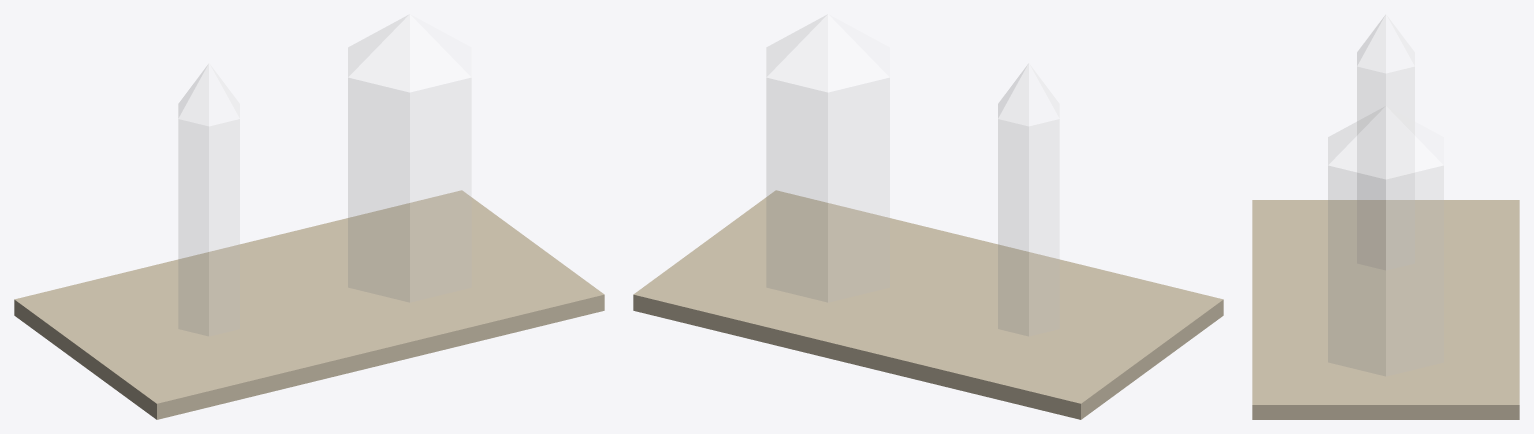
Rendered from glass_crystals.glb.
The picture shows the model from 3 angles, left to right: view 1: azimuth 30°, elevation 25°; view 2: azimuth 150°, elevation 25°; view 3: azimuth 270°, elevation 25°; orthographic projection. The views are drawn at different scales.
Visible parts, largest first — view 1: ground, crystal.001, crystal; view 2: ground, crystal.001, crystal; view 3: ground, crystal.001, crystal.
Boxes of the visible parts, left/top/right/bottom form: ground: left=14, top=190, right=604, bottom=419; crystal.001: left=348, top=14, right=471, bottom=301; crystal: left=178, top=64, right=239, bottom=335; ground: left=633, top=190, right=1223, bottom=419; crystal.001: left=766, top=14, right=889, bottom=301; crystal: left=998, top=64, right=1059, bottom=335; ground: left=1252, top=200, right=1519, bottom=419; crystal.001: left=1328, top=106, right=1443, bottom=375; crystal: left=1357, top=15, right=1414, bottom=269.
Size of the model in its own units: 0.145 by 0.085 by 0.08.
